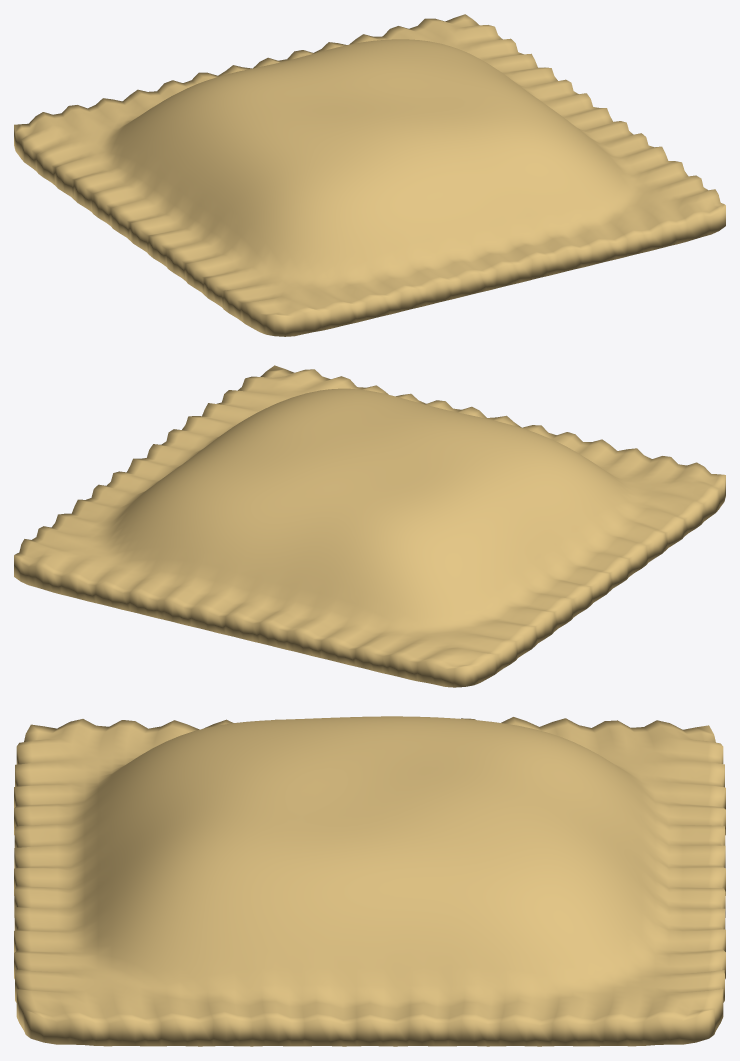
The model's file is NEW361_ravioli_LOD2.glb.
3 views of the same model, one above another, from view 1: azimuth 30°, elevation 25°; view 2: azimuth 150°, elevation 25°; view 3: azimuth 270°, elevation 25° (orthographic). The views are drawn at different scales.
Visible parts, largest first — view 1: Whole_square_raviolo; view 2: Whole_square_raviolo; view 3: Whole_square_raviolo.
Boxes of the visible parts, box(x1,y1,x2,y2) form: Whole_square_raviolo: box(14, 14, 725, 336); Whole_square_raviolo: box(14, 365, 725, 687); Whole_square_raviolo: box(14, 716, 725, 1046).
Bounding box in the file's own units: 0.0554 × 0.0117 × 0.0554.
